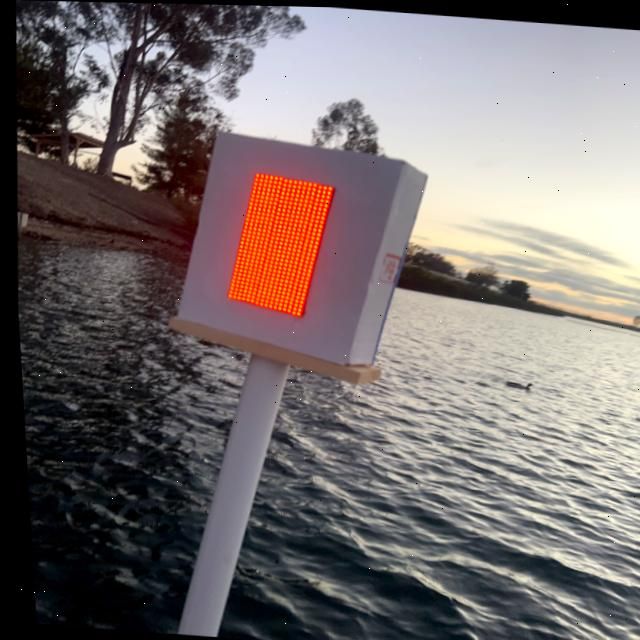led: (197, 148, 357, 339)
